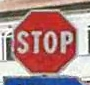stop: (10, 8, 78, 72)
